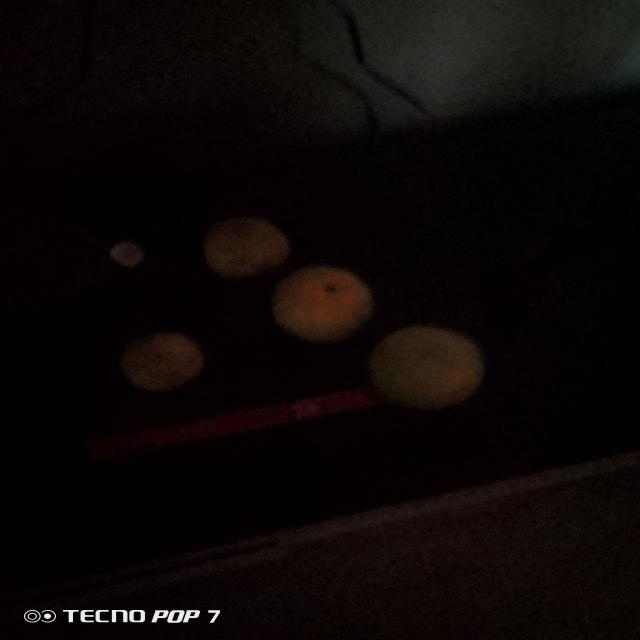agrume: (272, 251, 387, 347), (377, 320, 481, 420), (102, 320, 222, 402), (193, 214, 300, 274)
